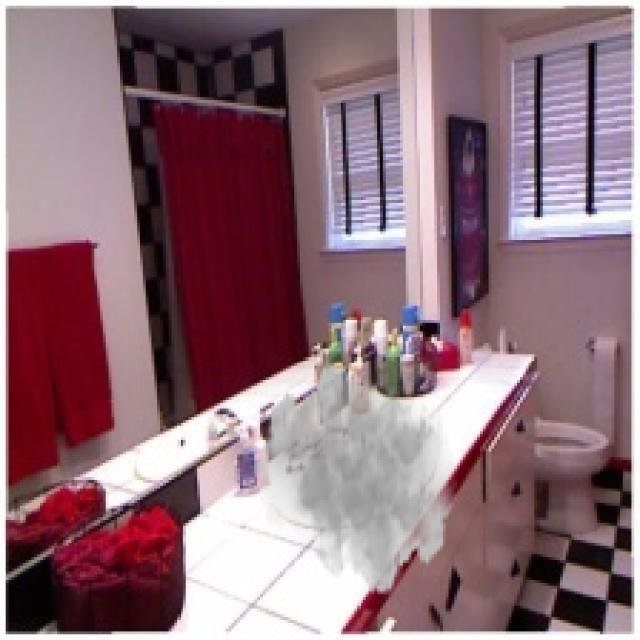Smoke: (257, 360, 457, 597)
